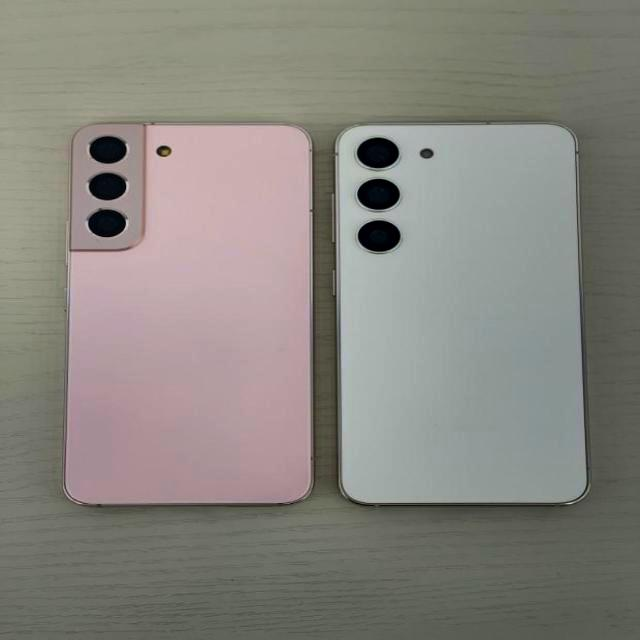lens: (348, 133, 412, 254), (87, 130, 127, 244)
phone: (331, 122, 587, 512), (70, 121, 319, 512)
